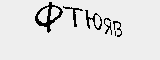В: (110, 20, 125, 42)
Т: (64, 4, 84, 29)
Ф: (32, 1, 63, 34)
Ю: (86, 10, 102, 33)
Я: (102, 15, 115, 39)
